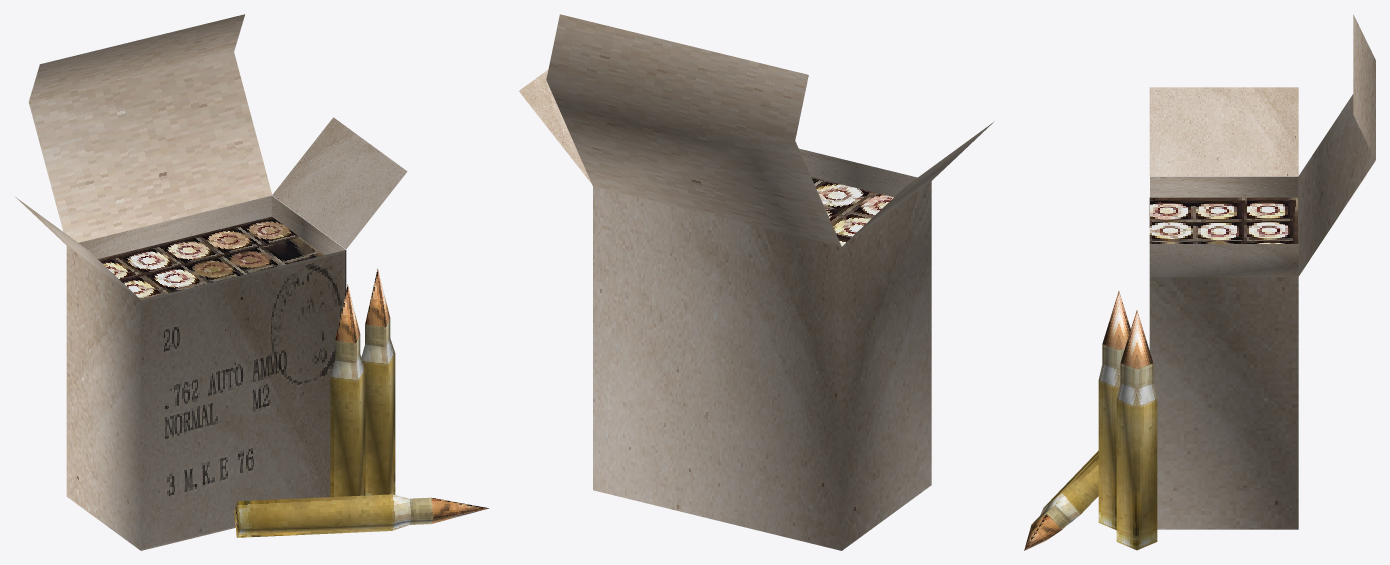
File: ammo_auto.glb
The picture shows the model from 3 angles, left to right: view 1: azimuth 30°, elevation 25°; view 2: azimuth 150°, elevation 25°; view 3: azimuth 270°, elevation 25°; orthographic projection. The views are drawn at different scales.
Parts seen in each view (by area): view 1: Auto_Ammo_Box; view 2: Auto_Ammo_Box; view 3: Auto_Ammo_Box.
Part boxes in pixels (left/top/right/bottom): Auto_Ammo_Box: left=15, top=14, right=488, bottom=550; Auto_Ammo_Box: left=519, top=14, right=994, bottom=550; Auto_Ammo_Box: left=1024, top=14, right=1375, bottom=550.
Bounding box in the file's own units: 0.2064 × 0.24 × 0.1845.
2 materials, 2 textured.
